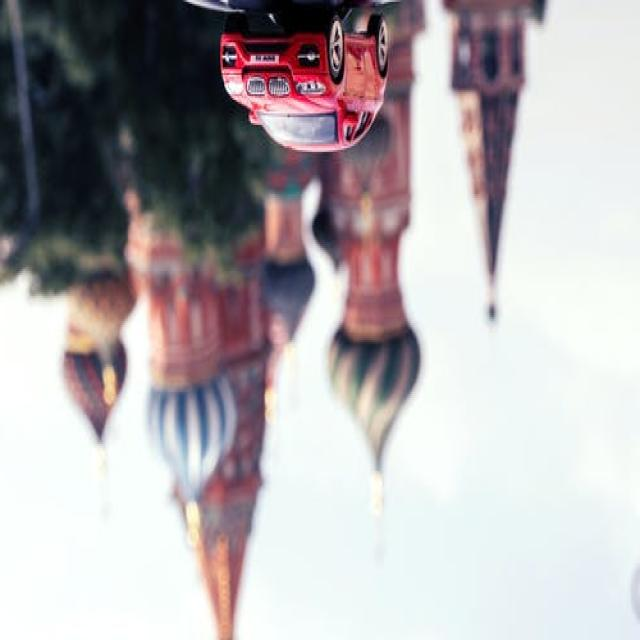Car: (220, 12, 390, 154)
